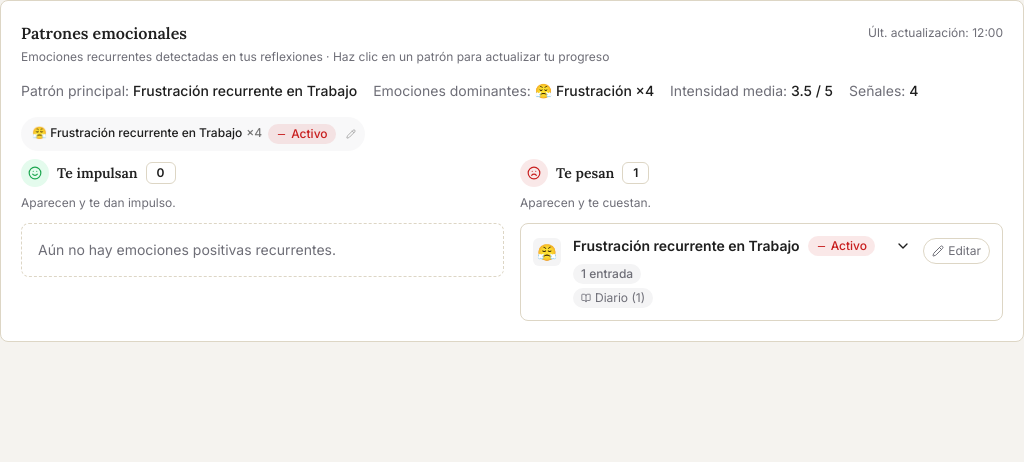
Test: EmotionalPatternsPanel › renders the timeline with intensity chip and note excerpt
Click the button "Frustración recurrente en Trabajo": click(686, 246) 533,236 -> 911,308
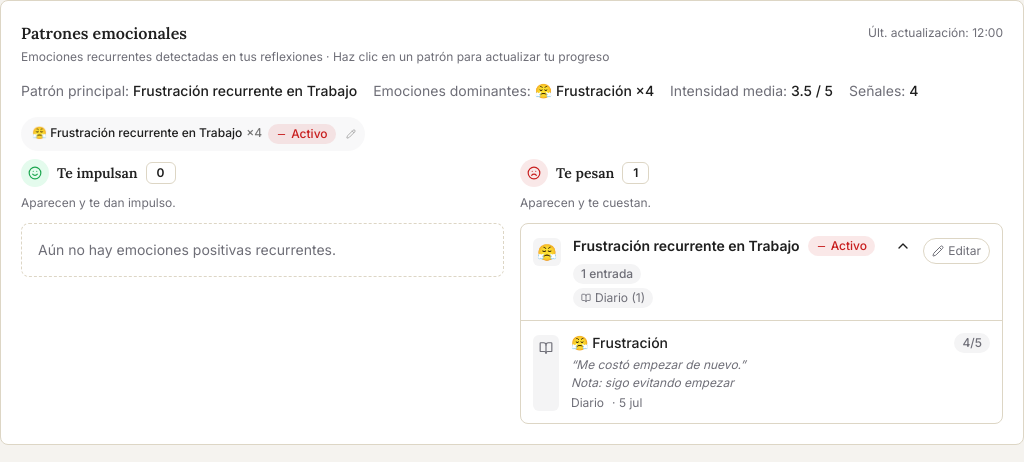
Expected: the text "4/5" is shown, 954,333 -> 990,353
Expected: the text "Nota: sigo evitando empezar" is shown, 571,375 -> 734,390
